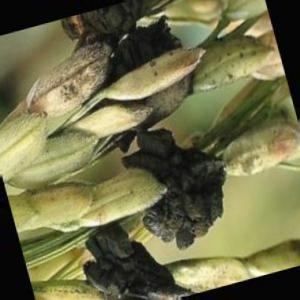Leaf_Scald: (151, 130, 216, 250), (89, 234, 170, 300), (71, 9, 173, 49)
